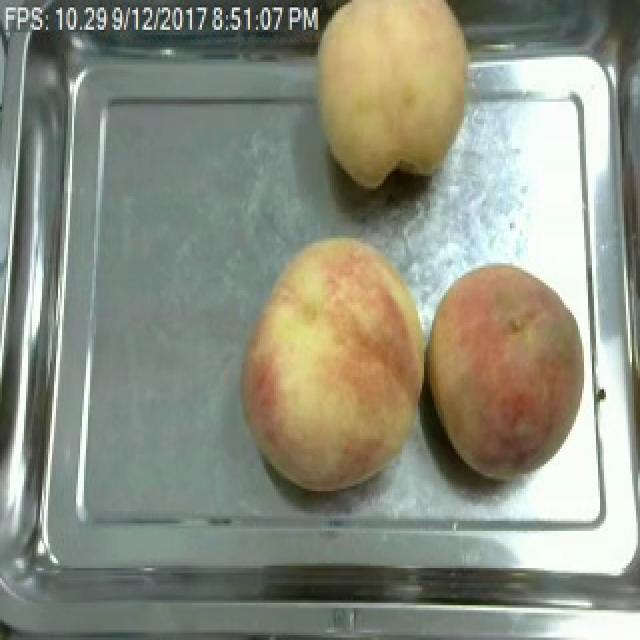Fruit: (232, 231, 434, 498), (420, 258, 598, 489), (302, 0, 480, 196)
